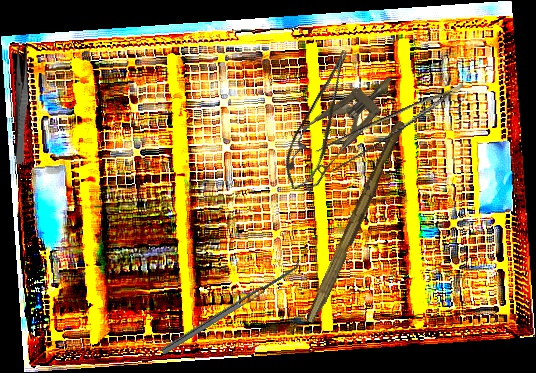Dressing Forceps: (14, 45, 29, 165)
Micro Scissor: (271, 47, 373, 196)
Scalpel Handle: (305, 117, 407, 327)
Spatula Surgical: (157, 256, 304, 355)
Speculum: (274, 59, 410, 195)
Tissue Forceps: (310, 82, 475, 177)
